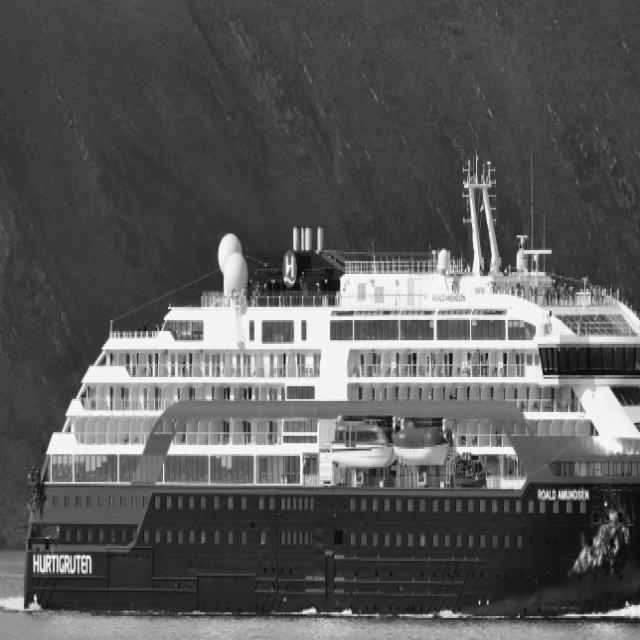cruises: (23, 148, 640, 637)
